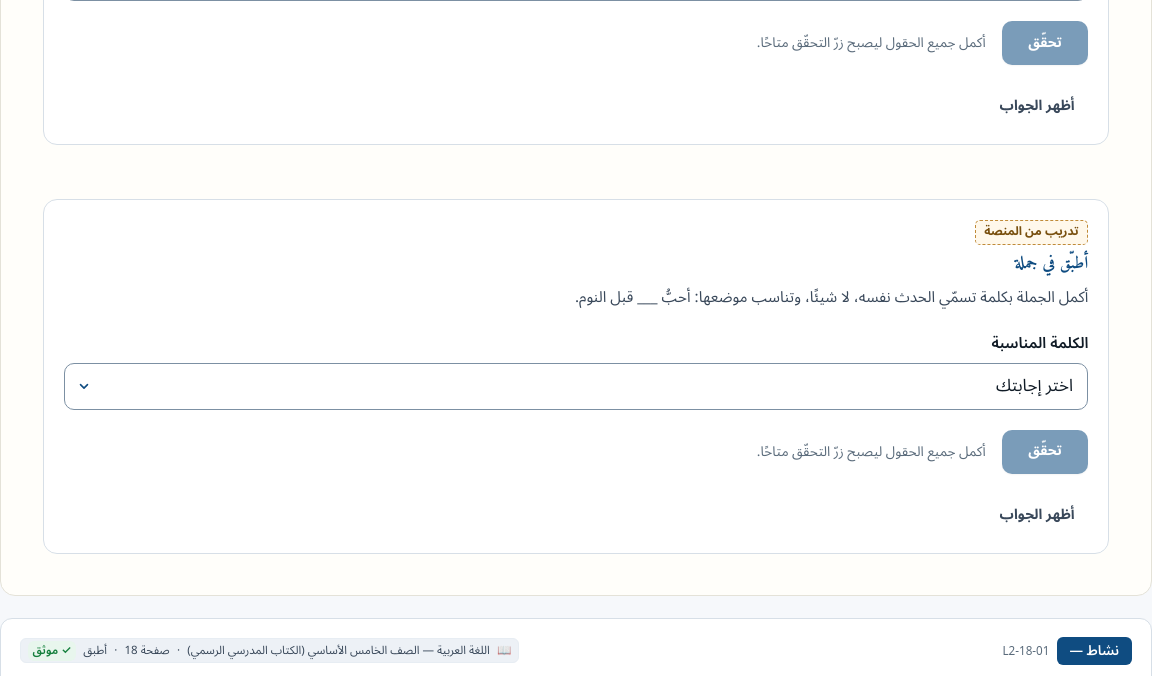
Test: Lesson 2 platform explanations › rejects invalid restored values and reports failed storage without claiming success
This screenshot has width=1152, height=676.
(page scrolled)
Select "القراءةَ" in the dropdown labelled "الكلمة المناسبة" at (576, 386), box top-left (64, 363), bottom-right (1088, 410)
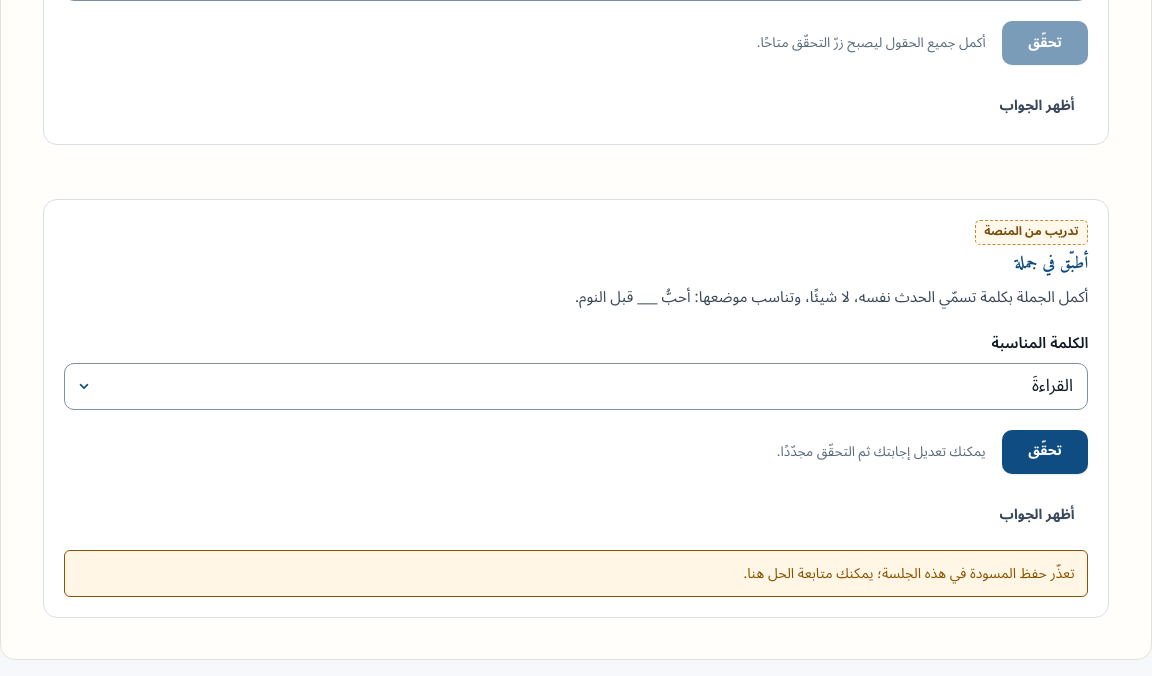
Now the message shows "تعذّر حفظ المسودة", box top-left (744, 559), bottom-right (1075, 588)
